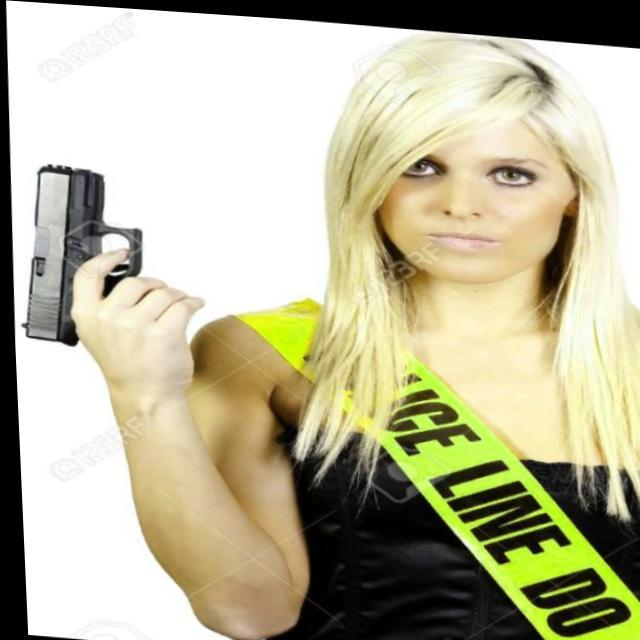weapon: (13, 160, 145, 352)
